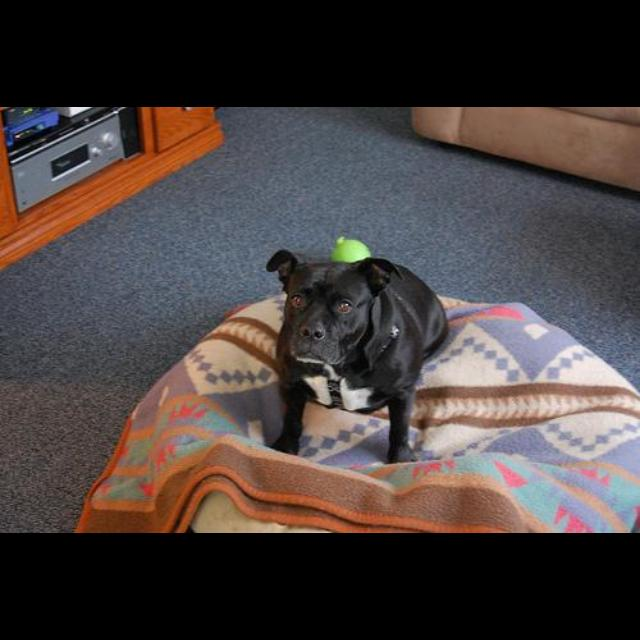amstaff: (265, 248, 450, 465)
